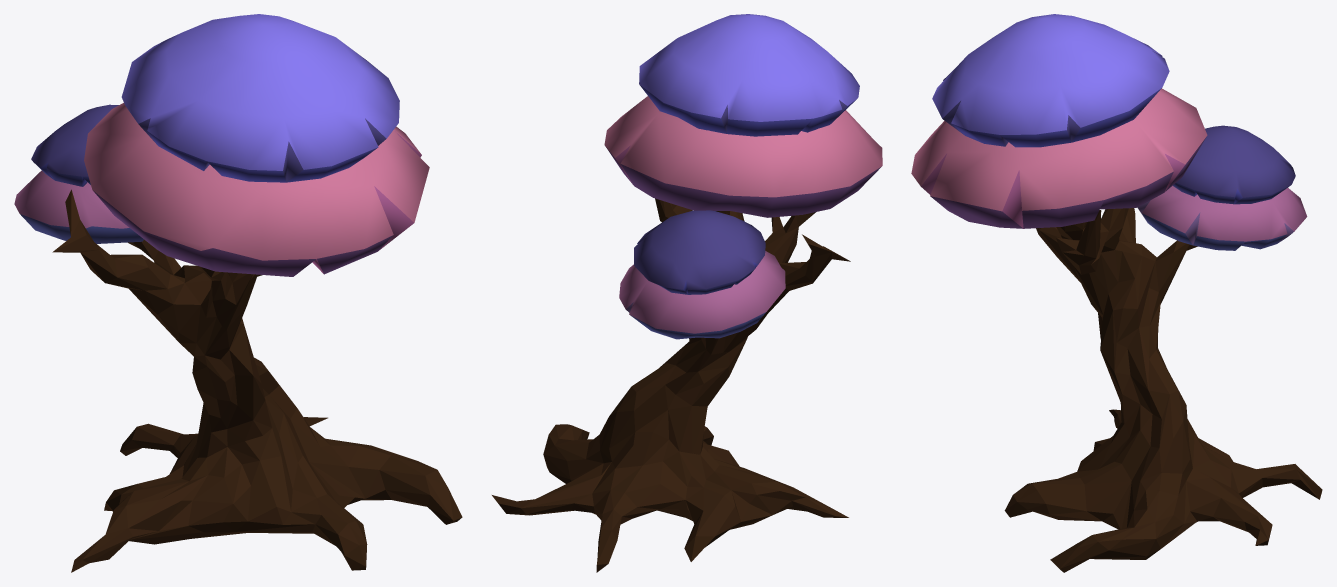
Rendered from Tree_03.glb.
3 renders of one model, left to right at view 1: azimuth 30°, elevation 25°; view 2: azimuth 150°, elevation 25°; view 3: azimuth 270°, elevation 25°, orthographic. The views are drawn at different scales.
Parts seen in each view (by area): view 1: Tree_03; view 2: Tree_03; view 3: Tree_03.
Boxes of the visible parts, box(x1,y1,x2,y2) form: Tree_03: box(14, 14, 462, 572); Tree_03: box(492, 14, 882, 572); Tree_03: box(911, 14, 1322, 572).
Size of what is drawn, in the model's own units: 4.45 by 6.41 by 5.03.
Materials: 1 (1 with a texture image).
